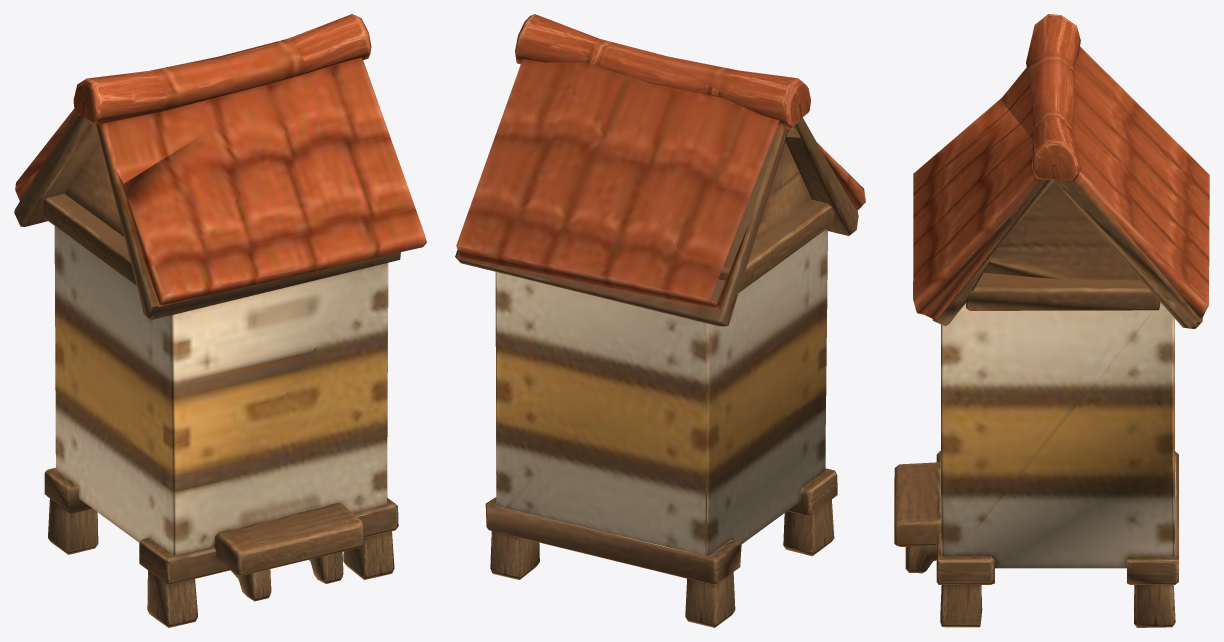
The model's file is beehive.glb.
3 renders of one model, left to right at view 1: azimuth 30°, elevation 25°; view 2: azimuth 150°, elevation 25°; view 3: azimuth 270°, elevation 25°, orthographic. The views are drawn at different scales.
Parts seen in each view (by area): view 1: beehive; view 2: beehive; view 3: beehive.
Boxes of the visible parts, left/top/right/bottom form: beehive: left=14, top=14, right=426, bottom=627; beehive: left=455, top=14, right=865, bottom=627; beehive: left=894, top=14, right=1209, bottom=627.
Bounding box in the file's own units: 0.4169 × 0.73 × 0.4196.
1 material, 1 textured.
